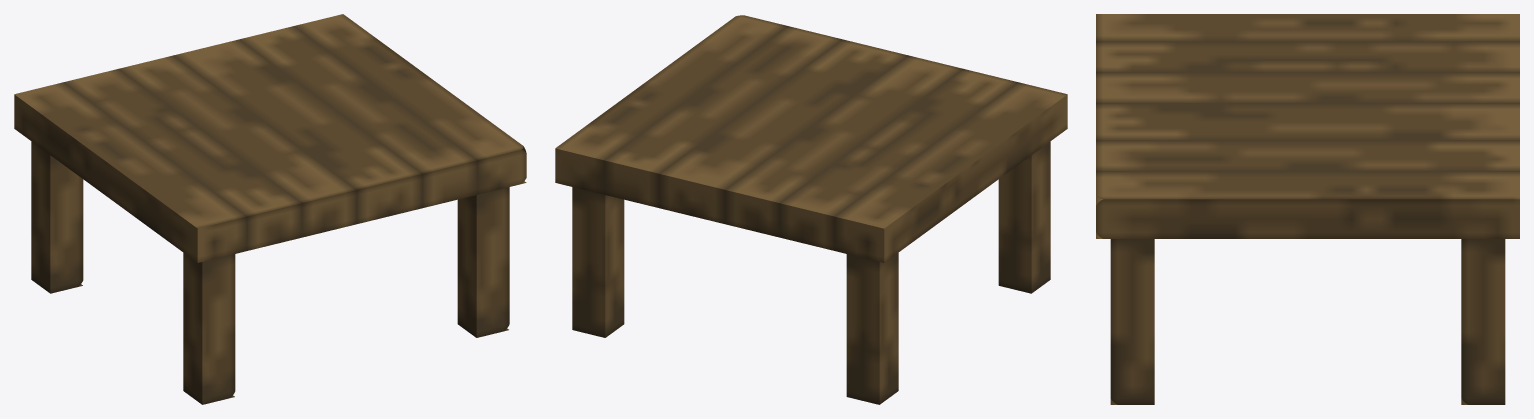
The model's file is medieval_market_table.fbx.
3 views of the same model, side by side, from view 1: azimuth 30°, elevation 25°; view 2: azimuth 150°, elevation 25°; view 3: azimuth 270°, elevation 25° (orthographic). The views are drawn at different scales.
Parts seen in each view (by area): view 1: Box19; view 2: Box19; view 3: Box19.
Part boxes in pixels (x1,y1,x2,y2): Box19: (14,14,526,404); Box19: (555,15,1067,404); Box19: (1096,14,1519,404).
Size of the model in its own units: 188 by 100 by 181.
1 material, 1 textured.
